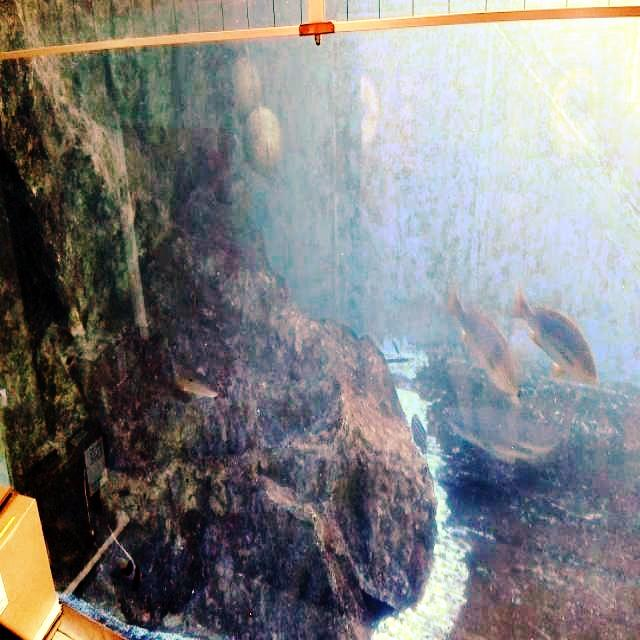Plectorhinchus lessonii: (404, 405, 439, 469)
angelfish: (99, 516, 152, 610)
gold snapper: (506, 268, 604, 402), (444, 279, 522, 407)
shark: (443, 397, 582, 475)
